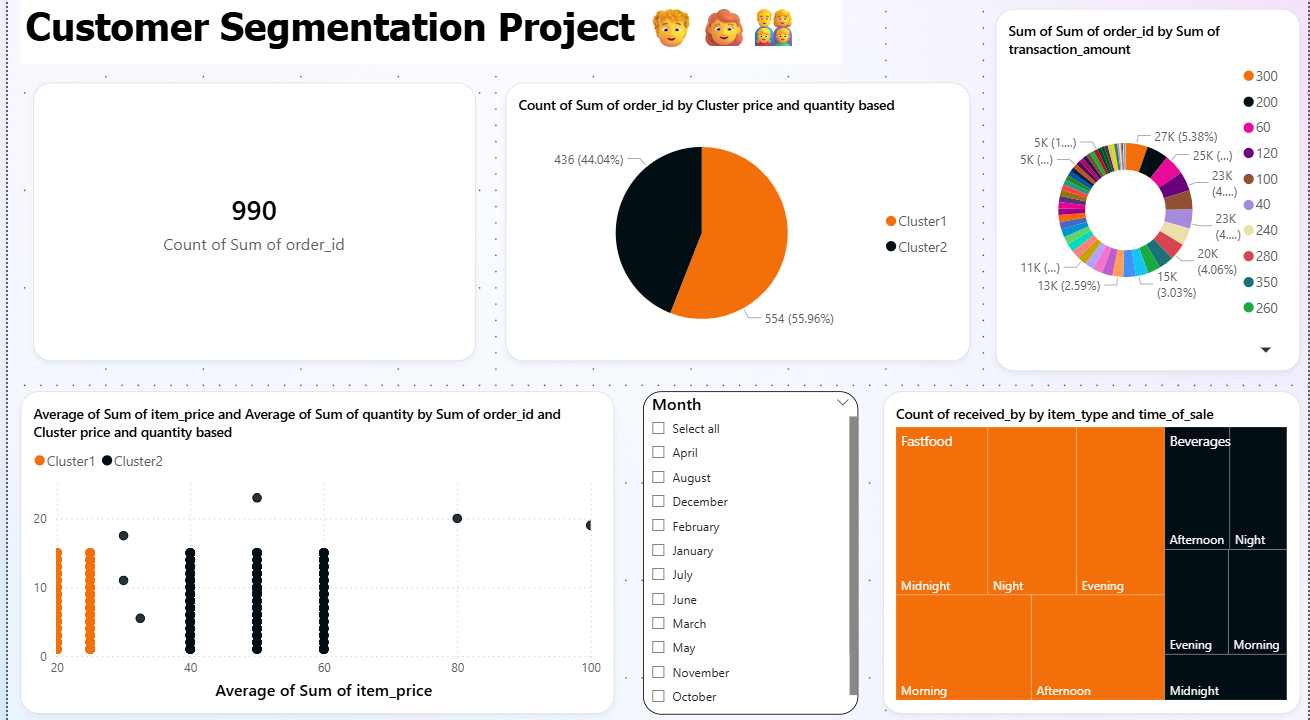

What the dashboard file says about the page in this screenshot:
{"tool":"powerbi","page":{"name":"Page 1","canvas":[1280,720],"ordinal":0},"visuals":[{"type":"scatterChart","fields":{"Category":["New_data_food.Sum of order_id"],"Series":["New_data_food.High price high quality"],"X":["Avg(New_data_food.Sum of item_price)"],"Y":["Avg(New_data_food.Sum of quantity)"]},"box":[12.3,390.2,584.6,317.5],"z":0},{"type":"card","fields":{"Values":["CountNonNull(New_data_food.Sum of order_id)"]},"box":[24.6,86.2,435.7,274.5],"z":1000},{"type":"pieChart","fields":{"Category":["New_data_food.Cluster price and quantity based"],"Y":["CountNonNull(New_data_food.Sum of order_id)"]},"box":[489.8,86.2,457.8,274.5],"z":2000},{"type":"slicer","fields":{"Values":["New_data_food.Month"]},"box":[625.2,390.2,211.7,318.8],"z":3000},{"type":"treemap","fields":{"Group":["New_data_food.item_type"],"Details":["New_data_food.time_of_sale"],"Values":["CountNonNull(New_data_food.received_by)"]},"box":[861.5,390.2,411.1,317.5],"z":4000},{"type":"donutChart","fields":{"Category":["New_data_food.Sum of transaction_amount"],"Y":["Sum(New_data_food.Sum of order_id)"]},"box":[972.3,13.5,300.3,356.9],"z":4001},{"type":"textbox","box":[12.3,0,808.6,67.7],"z":4002}]}

Visuals, with their boxes in screenshot pixels (x1, y1, x2, y2), scaled from the page's 1280x720 canvas onto the 1310x720 screenshot:
scatterChart - New_data_food.Sum of order_id x New_data_food.High price high quality: select_region(13, 390, 611, 708)
card - CountNonNull(New_data_food.Sum of order_id): select_region(25, 86, 471, 361)
pieChart - New_data_food.Cluster price and quantity based x CountNonNull(New_data_food.Sum of order_id): select_region(501, 86, 970, 361)
slicer - New_data_food.Month: select_region(640, 390, 857, 709)
treemap - New_data_food.item_type x New_data_food.time_of_sale: select_region(882, 390, 1302, 708)
donutChart - New_data_food.Sum of transaction_amount x Sum(New_data_food.Sum of order_id): select_region(995, 14, 1302, 370)
textbox: select_region(13, 0, 840, 68)
